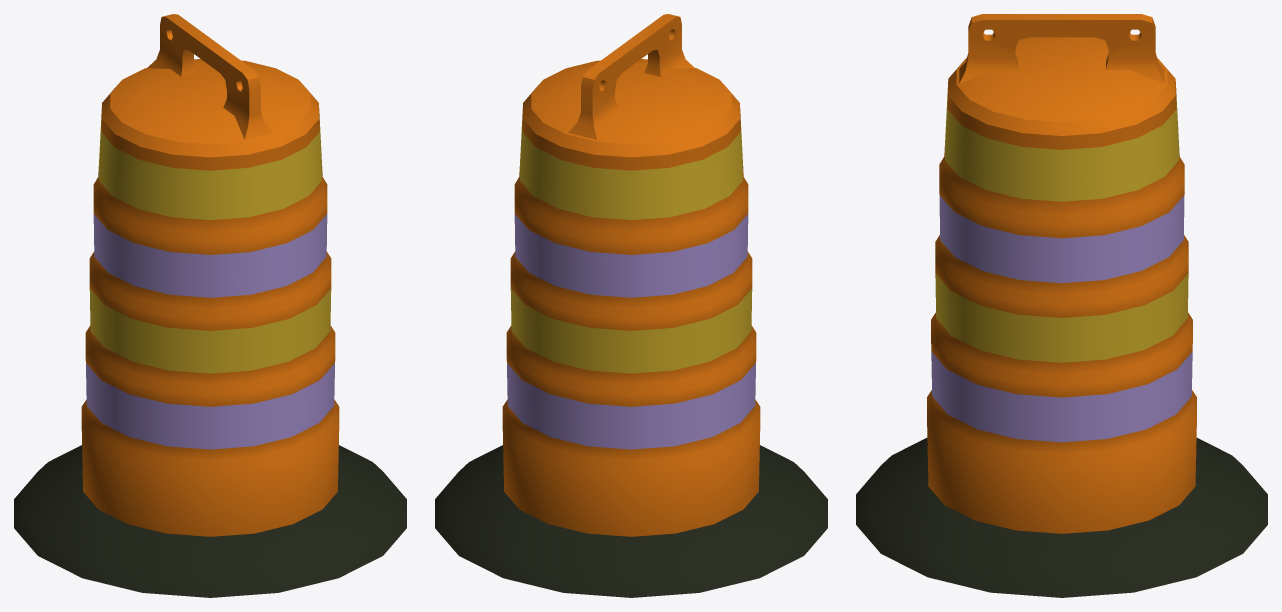
Rendered from SM_WaterBarrel.fbx.
3 renders of one model, left to right at view 1: azimuth 30°, elevation 25°; view 2: azimuth 150°, elevation 25°; view 3: azimuth 270°, elevation 25°, orthographic. The views are drawn at different scales.
Visible parts, largest first — view 1: SM_WaterBarrel; view 2: SM_WaterBarrel; view 3: SM_WaterBarrel.
Part boxes in pixels (bbox=[...]): SM_WaterBarrel: bbox=[14, 14, 406, 597]; SM_WaterBarrel: bbox=[435, 14, 827, 597]; SM_WaterBarrel: bbox=[856, 14, 1267, 597].
Size of the model in its own units: 163 by 211 by 160.
